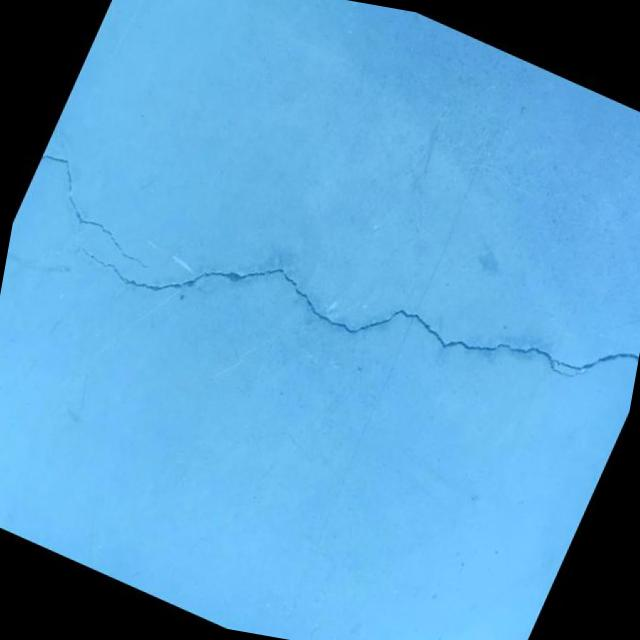crack: (47, 122, 640, 497), (12, 146, 182, 272)
